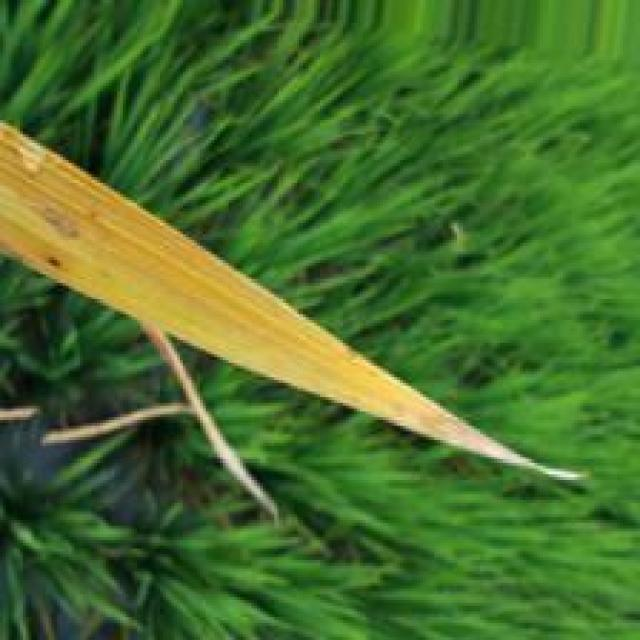Bacterial_Leaf_Blight: (0, 112, 574, 484)
